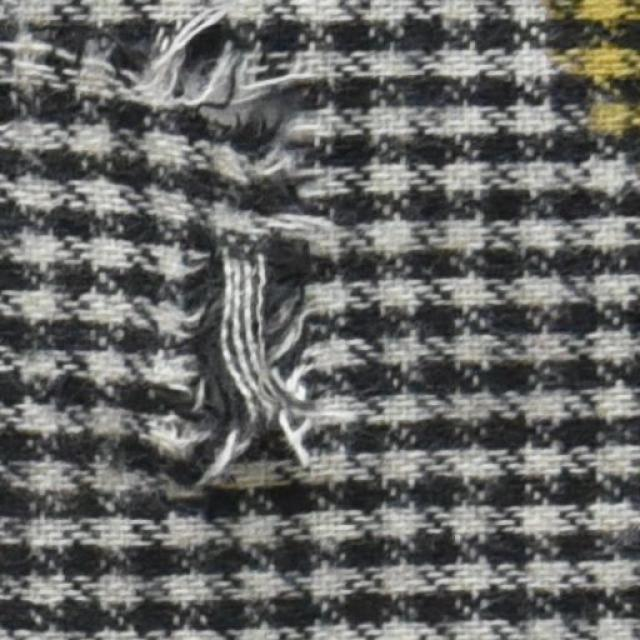Hole: (205, 78, 287, 146)
Snag: (160, 219, 345, 481), (24, 18, 306, 104)
Stain: (556, 0, 639, 150)
